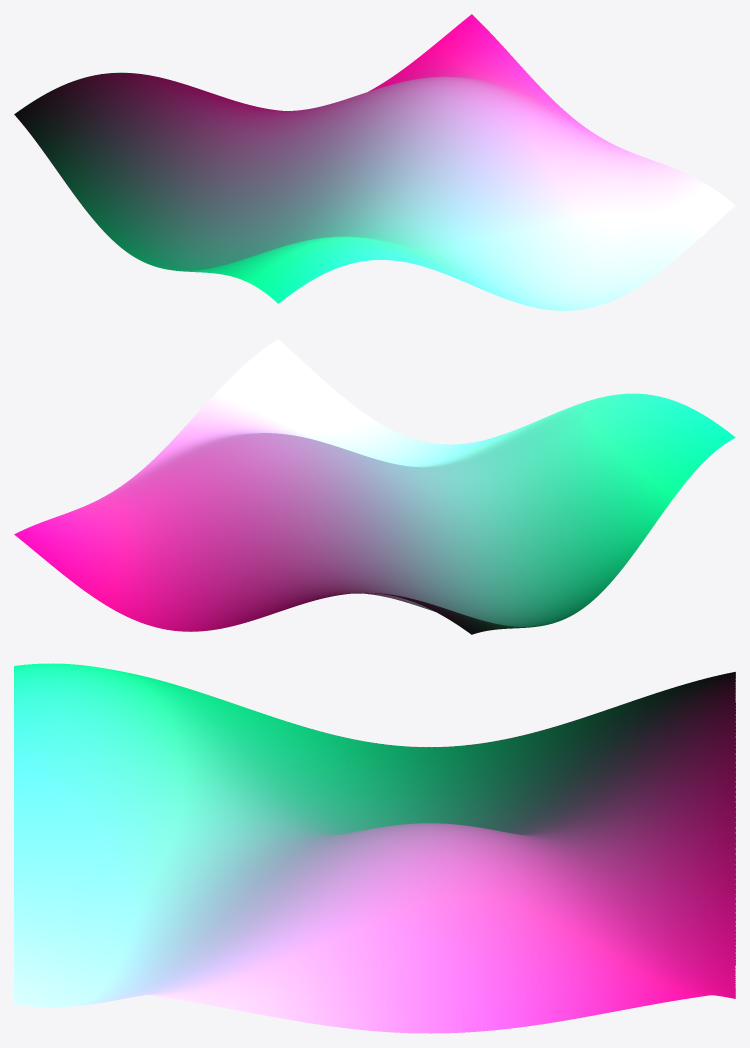
The model's file is heavy-03.glb.
3 renders of one model, top to bottom at view 1: azimuth 30°, elevation 25°; view 2: azimuth 150°, elevation 25°; view 3: azimuth 270°, elevation 25°, orthographic. The views are drawn at different scales.
Bounding box in the file's own units: 8 × 1.8 × 8.
Materials: 1 (1 with a texture image).
